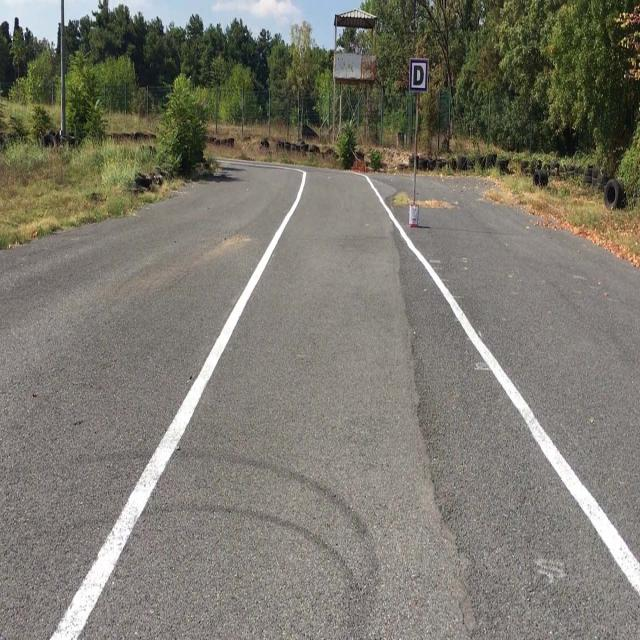durak: (410, 58, 428, 92)
